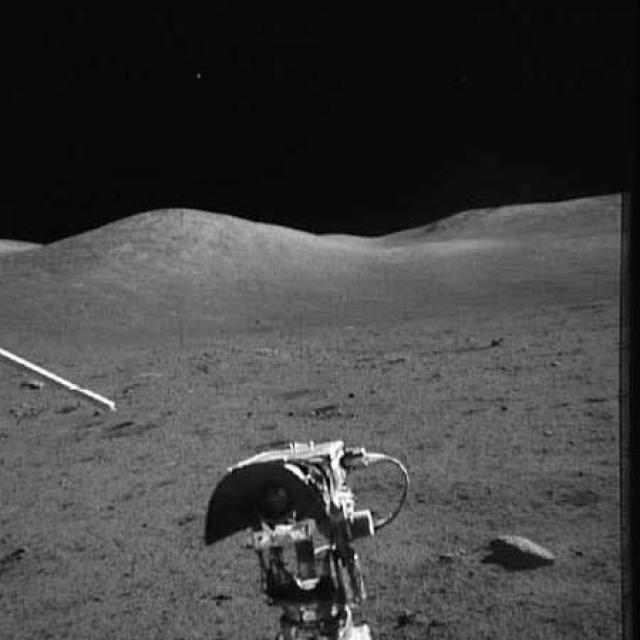artifact: (193, 430, 420, 638), (0, 342, 122, 424)
rock: (483, 524, 555, 574)
